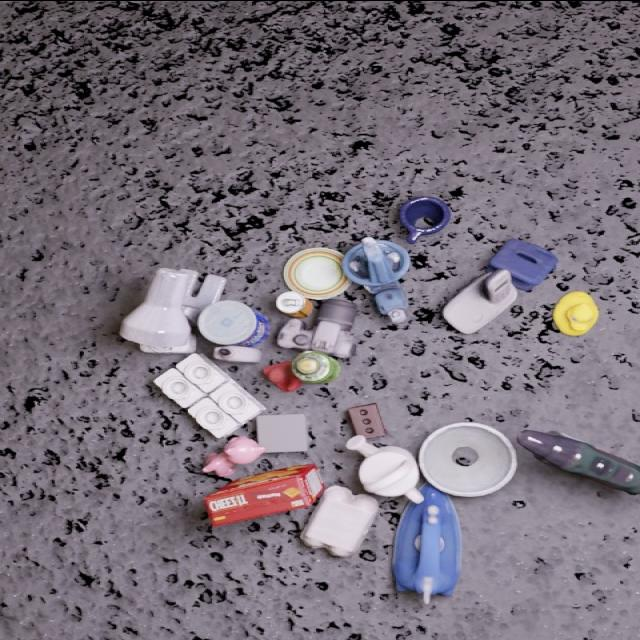Other Objects: (155, 352, 265, 436), (120, 267, 224, 351), (392, 482, 460, 601), (517, 429, 639, 492), (204, 463, 323, 525), (419, 421, 516, 495), (300, 483, 379, 555), (341, 236, 409, 314), (443, 269, 517, 331), (347, 435, 419, 495), (489, 238, 556, 290), (283, 246, 349, 298), (197, 299, 268, 346), (309, 297, 355, 356), (203, 435, 264, 476), (400, 196, 451, 241), (256, 413, 309, 451), (552, 290, 597, 334), (292, 349, 340, 382), (347, 402, 385, 437), (263, 360, 301, 390), (277, 318, 312, 347), (276, 290, 312, 316), (213, 344, 261, 361), (276, 290, 308, 313)
